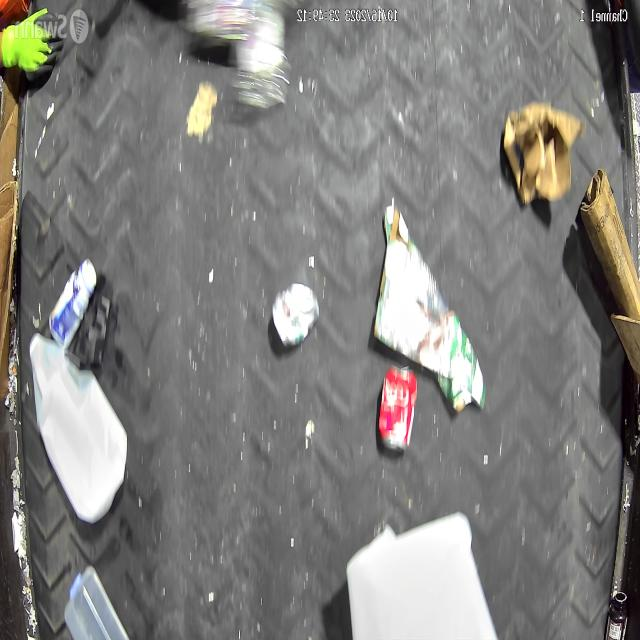can: (375, 363, 416, 453), (270, 280, 320, 349)
milk_jug: (27, 328, 126, 523)
